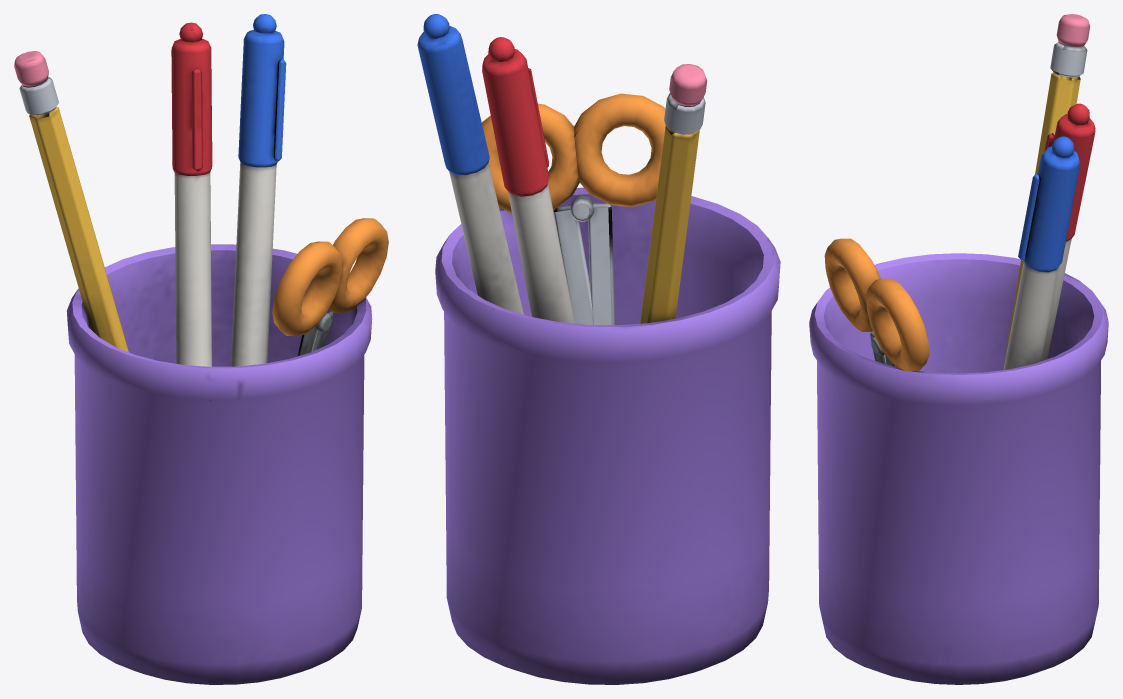
The model's file is pen_cup.glb.
3 renders of one model, left to right at view 1: azimuth 30°, elevation 25°; view 2: azimuth 150°, elevation 25°; view 3: azimuth 270°, elevation 25°, orthographic. The views are drawn at different scales.
Visible parts, largest first — view 1: pen_cup; view 2: pen_cup; view 3: pen_cup.
Part boxes in pixels (x1,y1,x2,y2): pen_cup: (14, 14, 388, 684); pen_cup: (417, 14, 780, 684); pen_cup: (809, 14, 1108, 684).
Bounding box in the file's own units: 0.0941 × 0.1778 × 0.0868.
9 materials, 9 textured.
